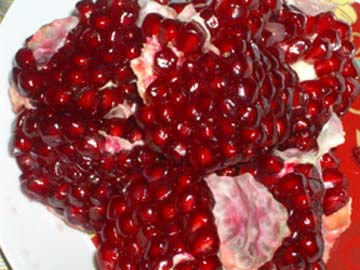pomogranate: (14, 2, 356, 269)
